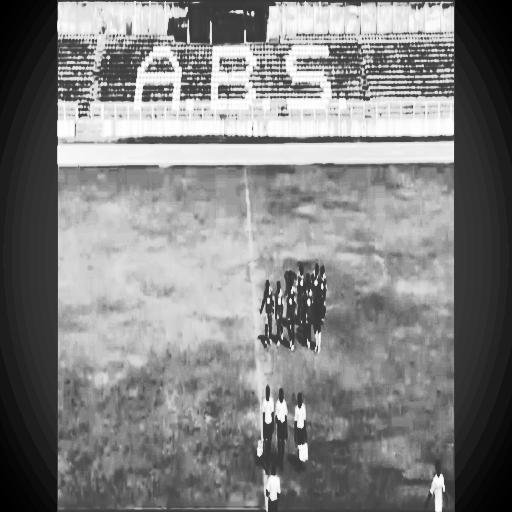keeper2: (312, 286, 325, 365)
referee: (290, 378, 310, 478), (256, 384, 274, 464), (274, 378, 288, 474), (260, 461, 284, 509)
team1: (423, 445, 451, 512)
team2: (284, 274, 299, 350), (272, 276, 286, 347), (264, 268, 274, 354), (302, 277, 312, 354)
